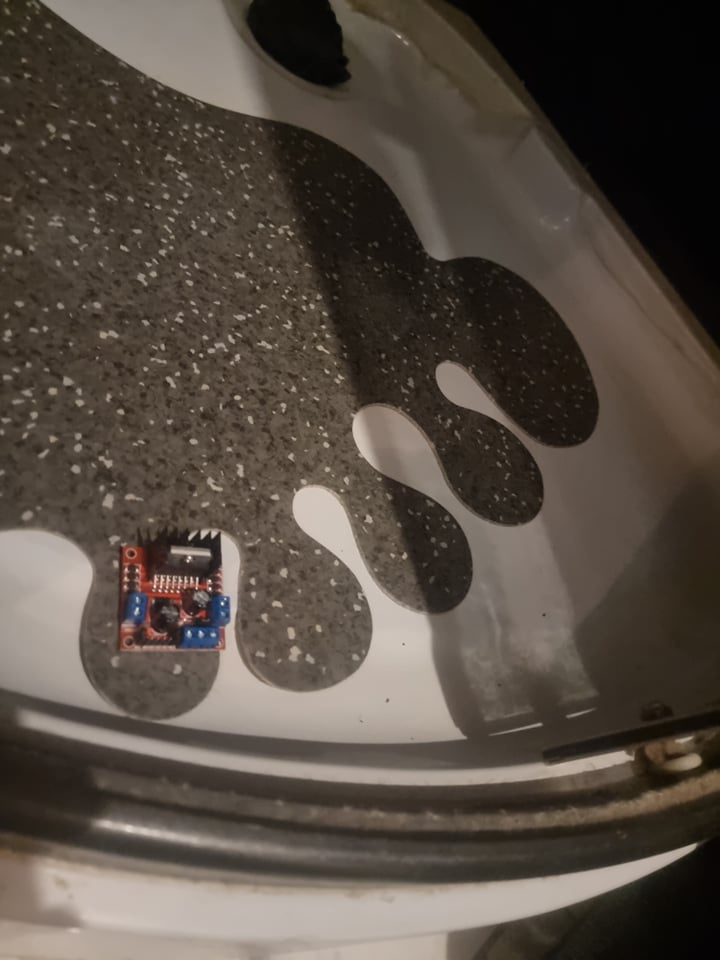MOTOR: (114, 532, 234, 652)
